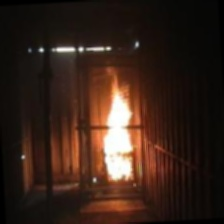fire: (97, 82, 145, 176)
